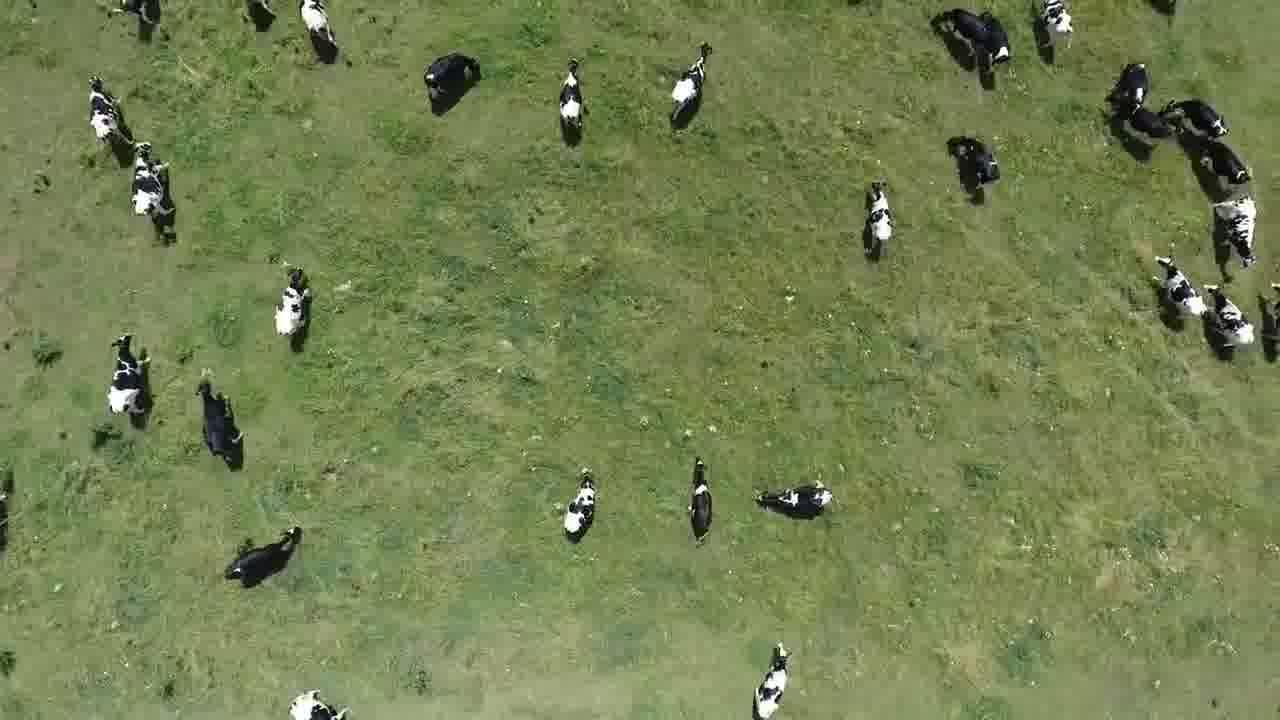cow: (99, 330, 162, 420), (222, 524, 308, 587), (126, 140, 185, 228), (190, 377, 250, 463), (666, 37, 720, 132), (1149, 250, 1208, 330), (1202, 279, 1259, 360), (417, 51, 487, 113), (1207, 194, 1261, 274), (744, 634, 796, 715), (751, 475, 838, 523), (267, 263, 319, 340), (1191, 136, 1257, 195), (86, 68, 132, 150), (947, 132, 1006, 190), (551, 58, 593, 139), (1162, 93, 1231, 142), (559, 466, 602, 542), (857, 178, 896, 258), (294, 0, 343, 60), (684, 454, 716, 542), (1119, 100, 1176, 147), (284, 683, 354, 720), (935, 7, 985, 55), (983, 11, 1018, 77), (1036, 0, 1076, 54), (1107, 58, 1150, 104)
